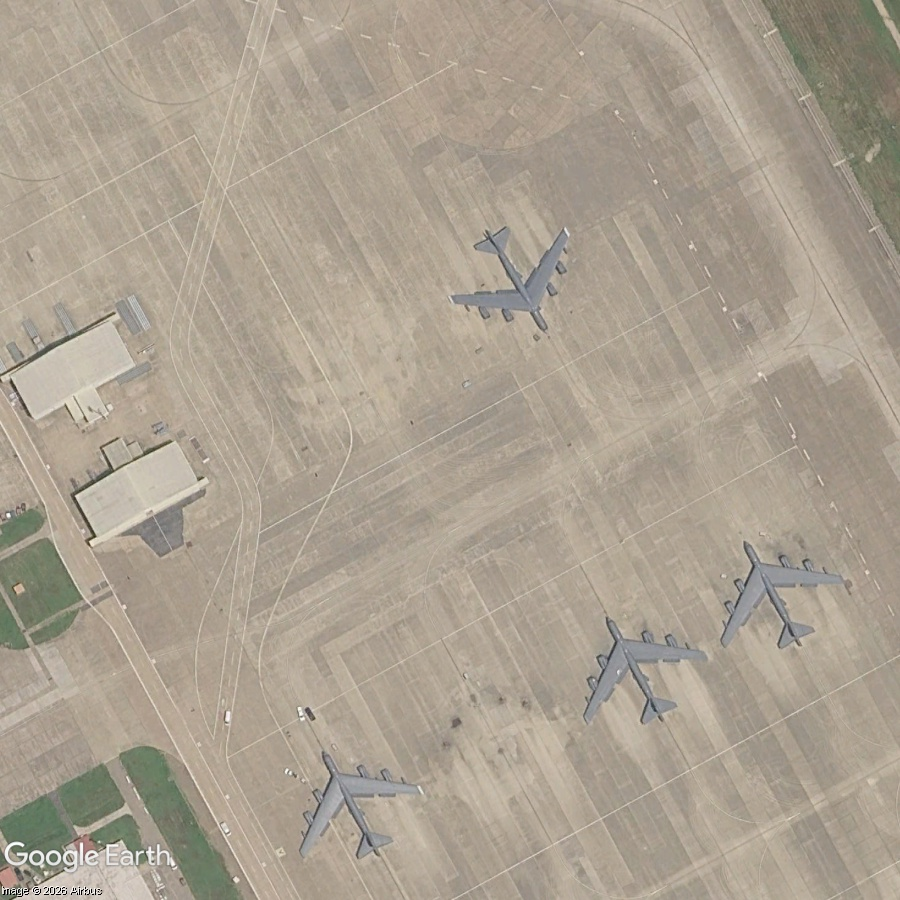Máy bay ném bom: (421, 187, 612, 373), (679, 503, 867, 684), (542, 580, 728, 759), (258, 714, 443, 892)
Nhà/Hầm chứa máy bay: (61, 428, 212, 556), (0, 307, 149, 435)
